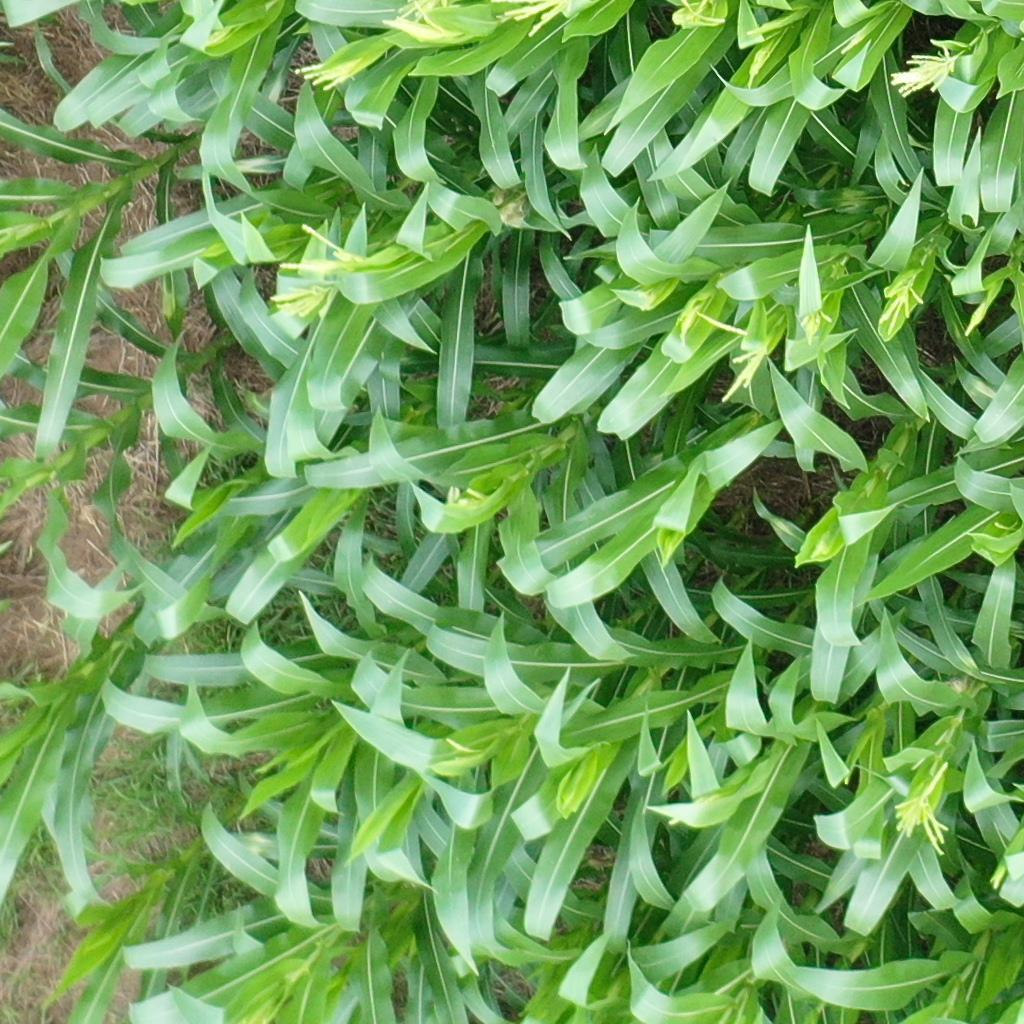Tassel: (696, 304, 777, 408), (890, 756, 951, 859), (279, 222, 371, 276), (887, 45, 958, 99), (383, 1, 468, 46), (490, 1, 575, 40), (287, 54, 363, 93), (877, 282, 924, 338), (267, 285, 337, 320), (674, 1, 734, 31), (803, 308, 838, 344)
